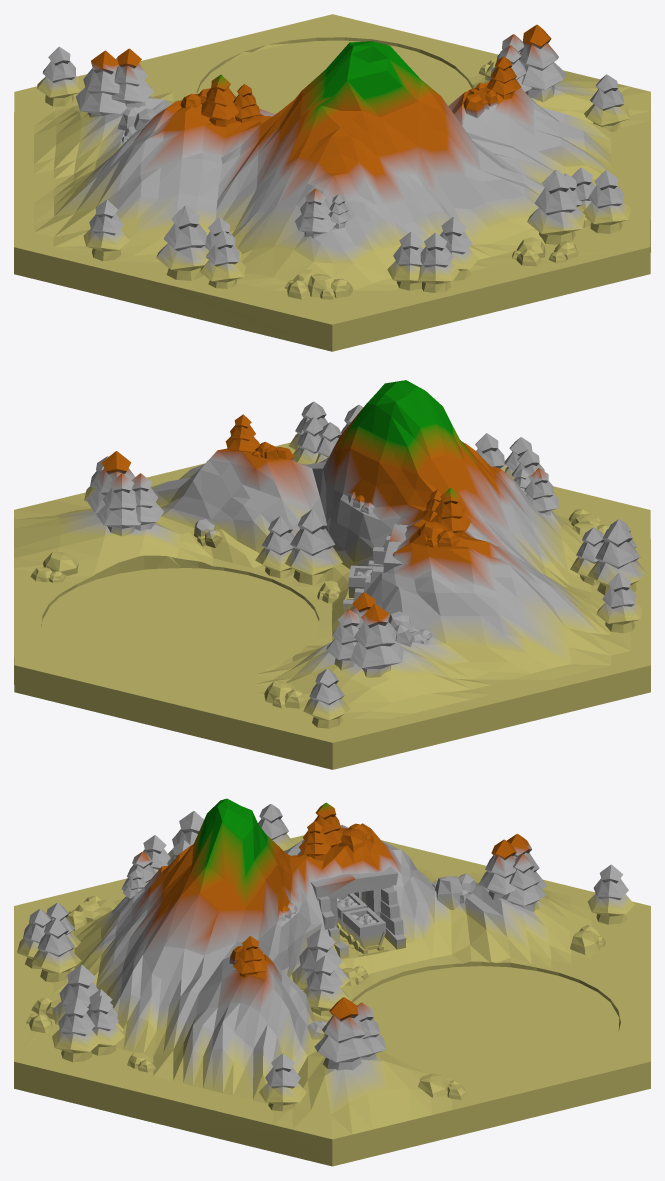
File: ore.glb
3 renders of one model, top to bottom at view 1: azimuth 30°, elevation 25°; view 2: azimuth 150°, elevation 25°; view 3: azimuth 270°, elevation 25°, orthographic.
Visible parts, largest first — view 1: ore; view 2: ore; view 3: ore.
Part boxes in pixels (x1,y1,x2,y2): ore: (14, 14, 650, 351); ore: (14, 380, 650, 769); ore: (14, 798, 650, 1166).
Size of the model in its own units: 74 by 21.84 by 64.
